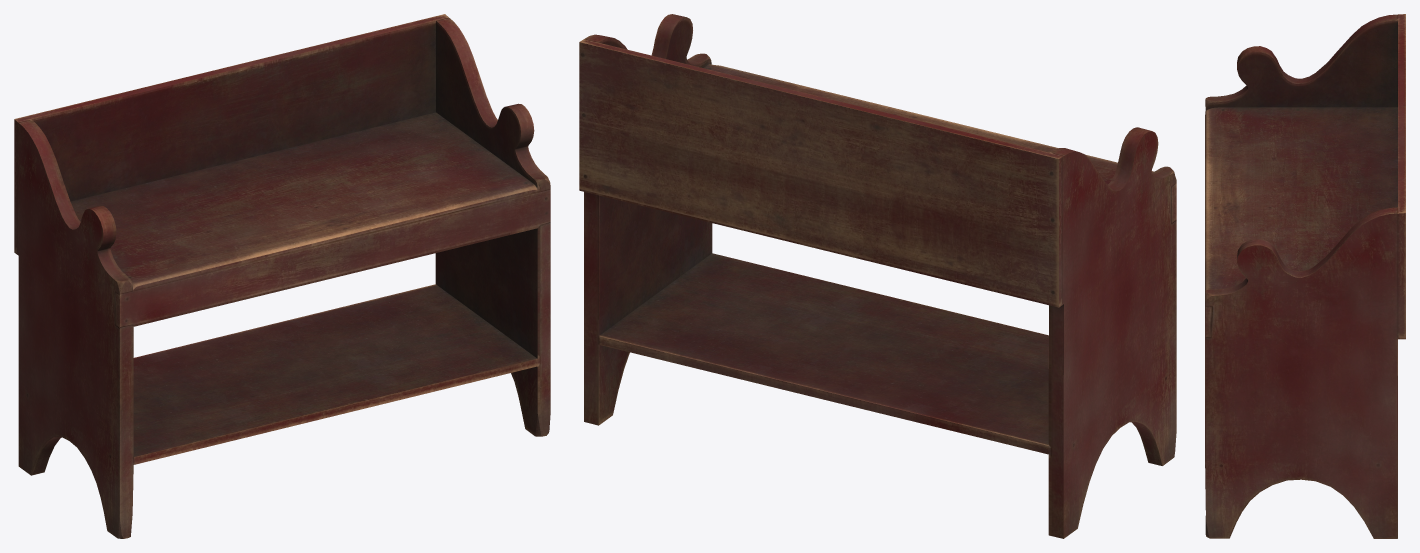
Rendered from ph_wooden_bench.fbx.
3 views of the same model, side by side, from view 1: azimuth 30°, elevation 25°; view 2: azimuth 150°, elevation 25°; view 3: azimuth 270°, elevation 25° (orthographic). The views are drawn at different scales.
Parts seen in each view (by area): view 1: ph_wooden_bench_LOD0; view 2: ph_wooden_bench_LOD0; view 3: ph_wooden_bench_LOD0.
Boxes of the visible parts, x1,y1,x2,y2 form: ph_wooden_bench_LOD0: (14, 14, 550, 538); ph_wooden_bench_LOD0: (579, 14, 1176, 538); ph_wooden_bench_LOD0: (1205, 14, 1405, 538).
Size of what is drawn, in the model's own units: 1.16 by 0.8893 by 0.4965.
